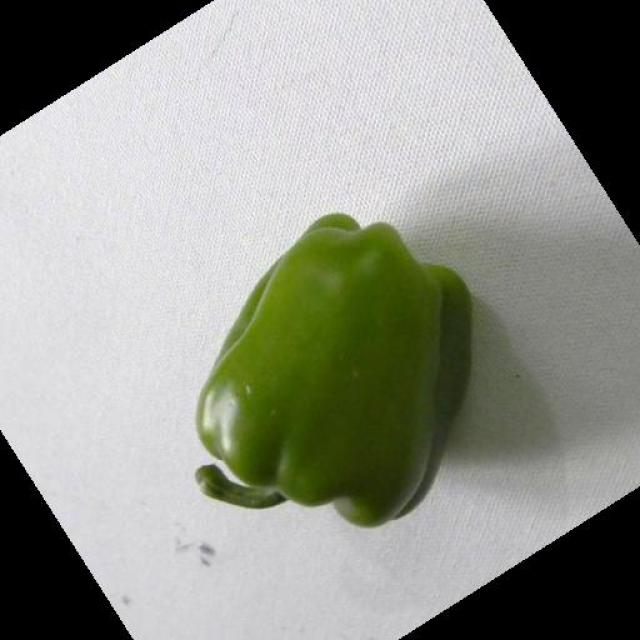Fresh_Capsicum: (192, 171, 507, 573)
